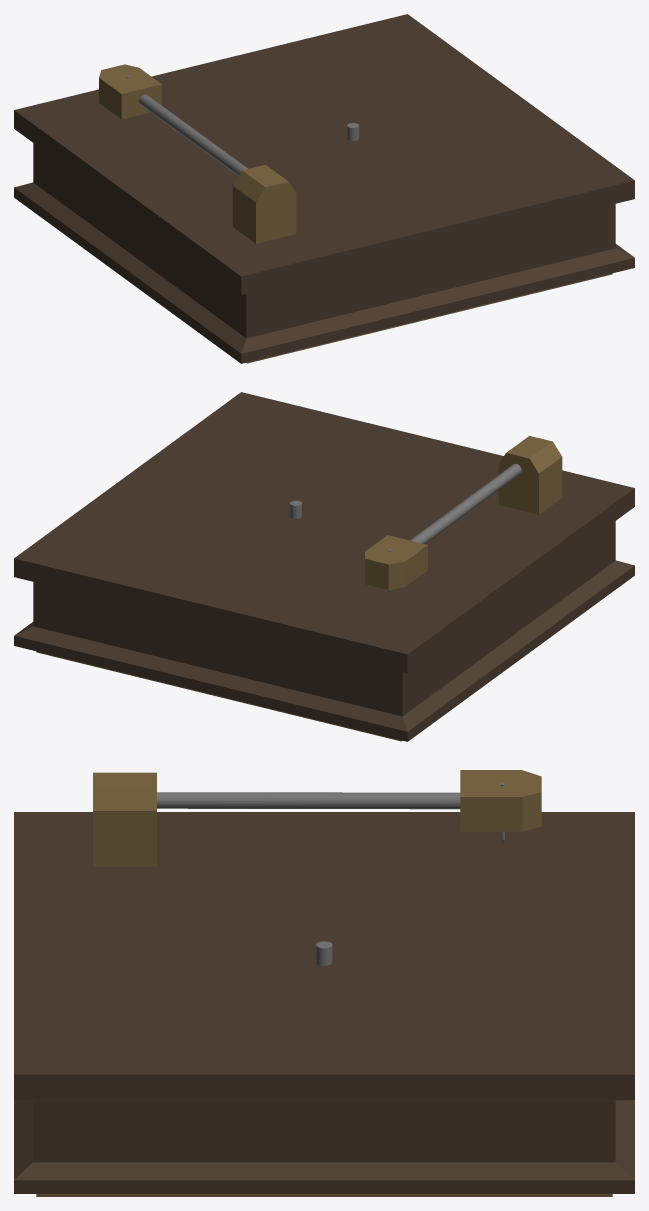
The model's file is terbuka.fbx.
3 renders of one model, top to bottom at view 1: azimuth 30°, elevation 25°; view 2: azimuth 150°, elevation 25°; view 3: azimuth 270°, elevation 25°, orthographic. The views are drawn at different scales.
Parts seen in each view (by area): view 1: Cube, Cube.003, Cube.004, Cylinder, Cube.001; view 2: Cube, Cube.003, Cube.004, Cylinder, Cube.001; view 3: Cube, Cube.003, Cylinder, Cube.004, Cube.001.
Part boxes in pixels (x1,y1,x2,y2): Cube: [14, 14, 634, 363]; Cube.003: [232, 164, 296, 243]; Cube.004: [99, 64, 161, 119]; Cylinder: [139, 94, 248, 176]; Cube.001: [246, 273, 612, 363]; Cube: [14, 392, 634, 741]; Cube.003: [498, 436, 562, 514]; Cube.004: [365, 535, 427, 589]; Cylinder: [410, 463, 521, 543]; Cube.001: [36, 651, 402, 741]; Cube: [14, 812, 634, 1193]; Cube.003: [93, 772, 156, 866]; Cylinder: [157, 792, 460, 809]; Cube.004: [460, 770, 541, 831]; Cube.001: [36, 1194, 612, 1196].
Size of the model in its own units: 200 by 73.47 by 200.
